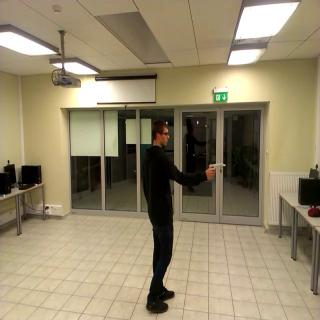gun: (205, 160, 227, 179)
